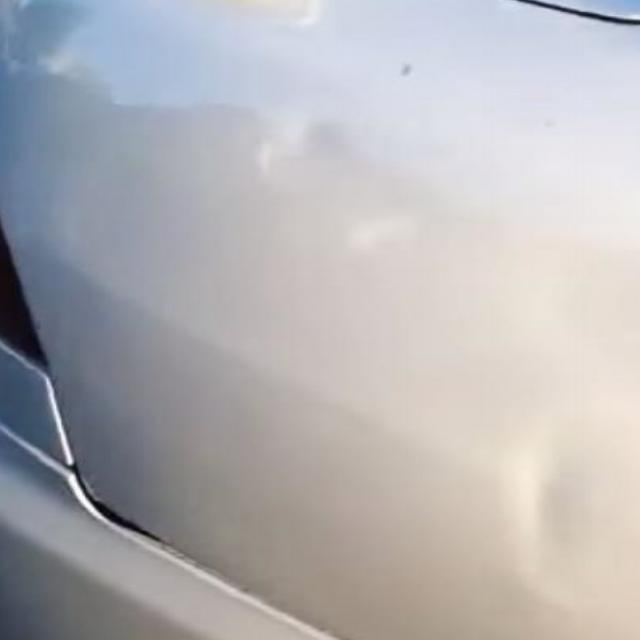dents: (446, 416, 630, 631)
